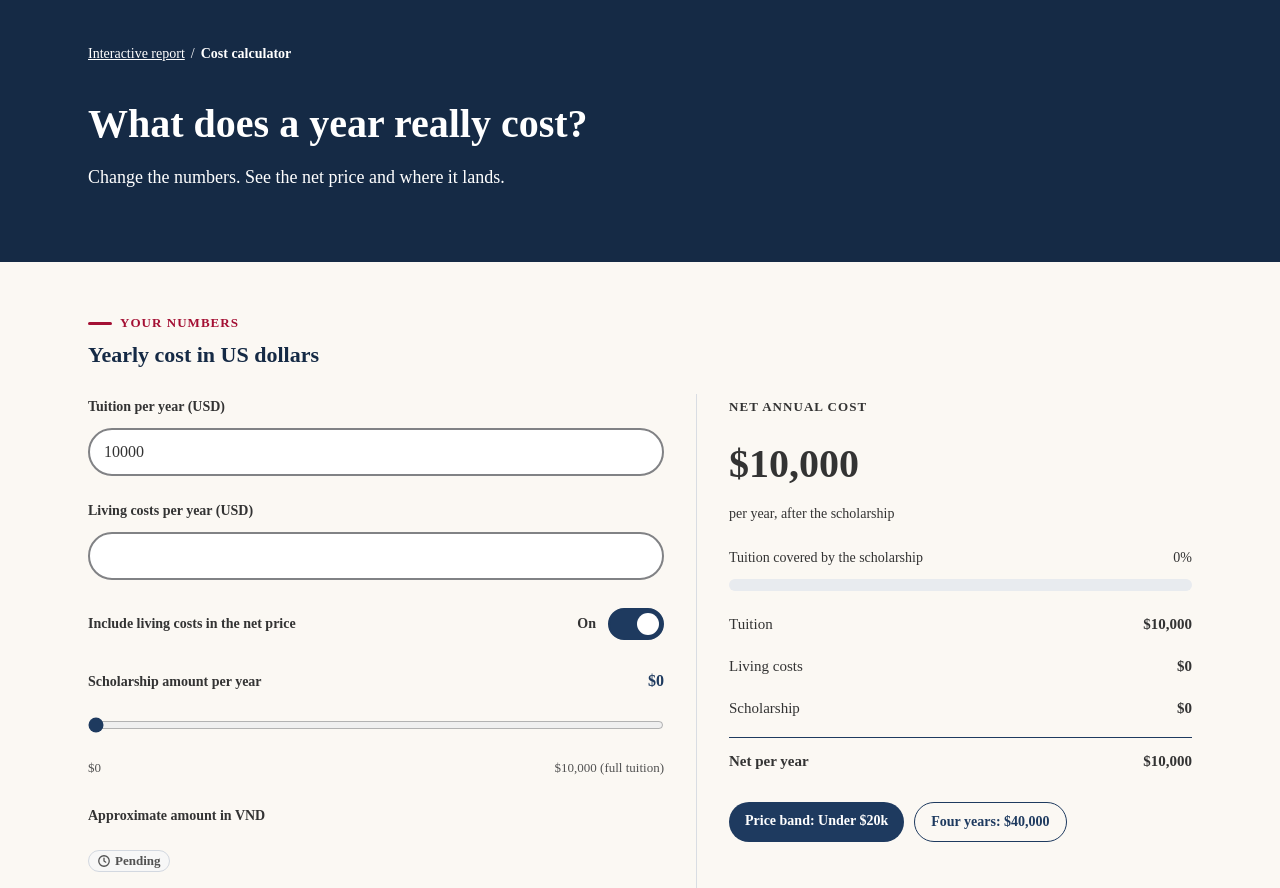
it: CostCalculator › flags a negative amount and counts it as zero
This screenshot has width=1280, height=888.
Replace the text in the number field labelled "Tuition per year (USD)" with "-5" at (376, 452), box [88,428,664,476]
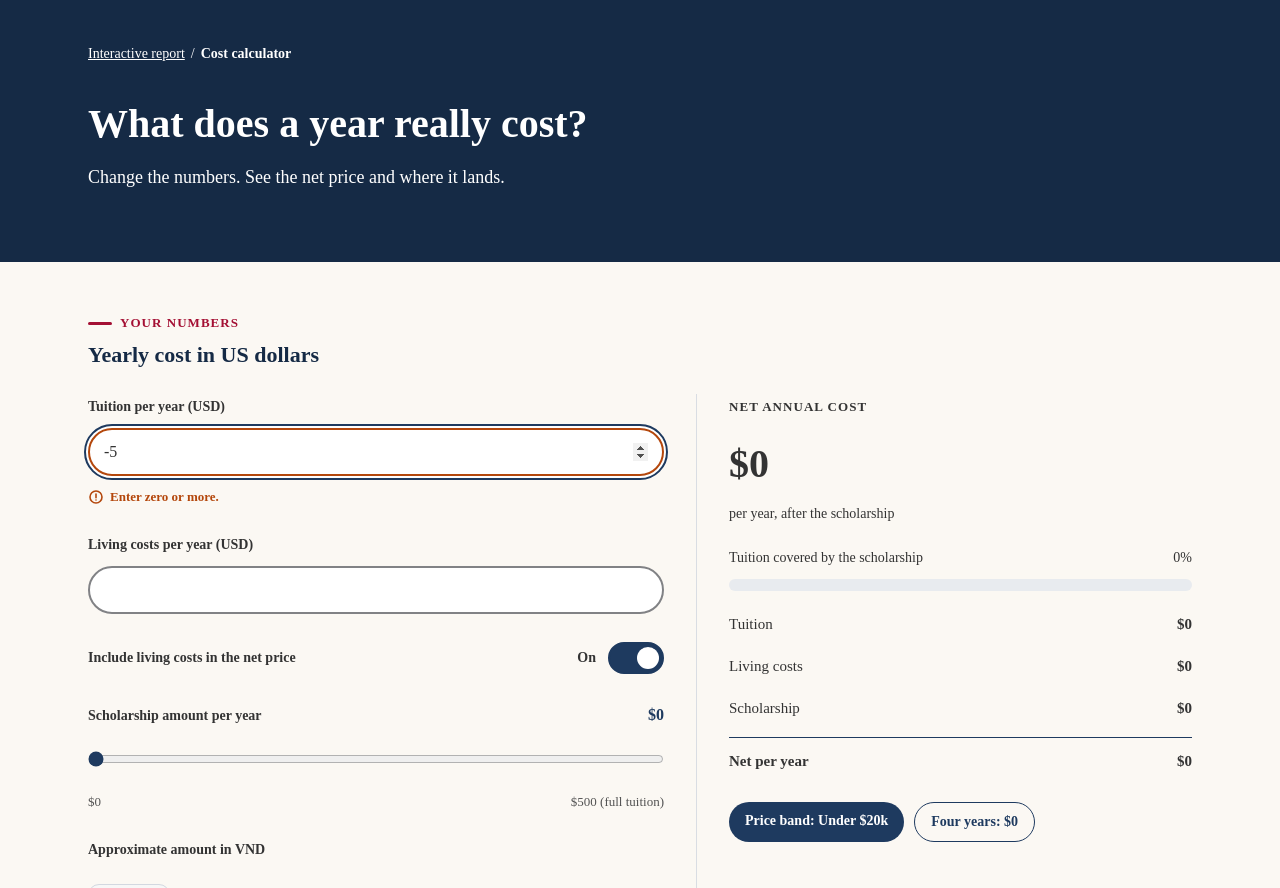
Expected: the message reads "Enter zero or more.", [110,489,219,504]
